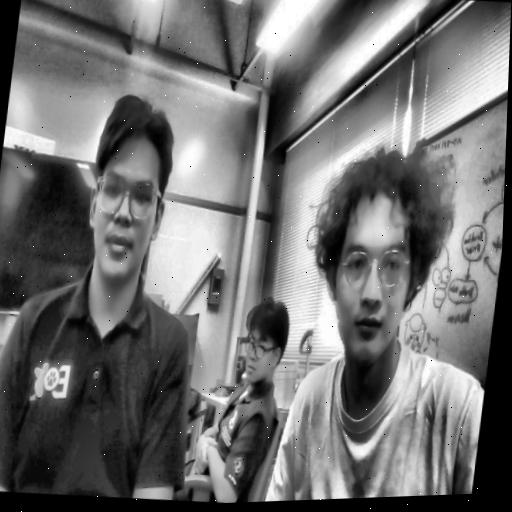Daifuku: (292, 124, 466, 384)
Not Daifuku: (77, 86, 182, 290), (230, 295, 293, 389)
